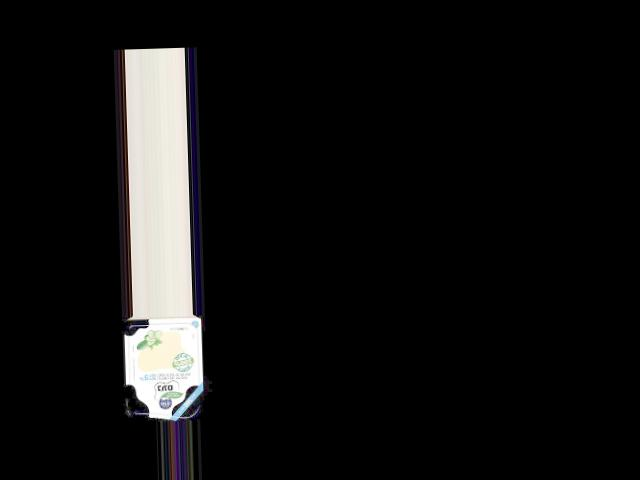cheese: (119, 313, 208, 420)
